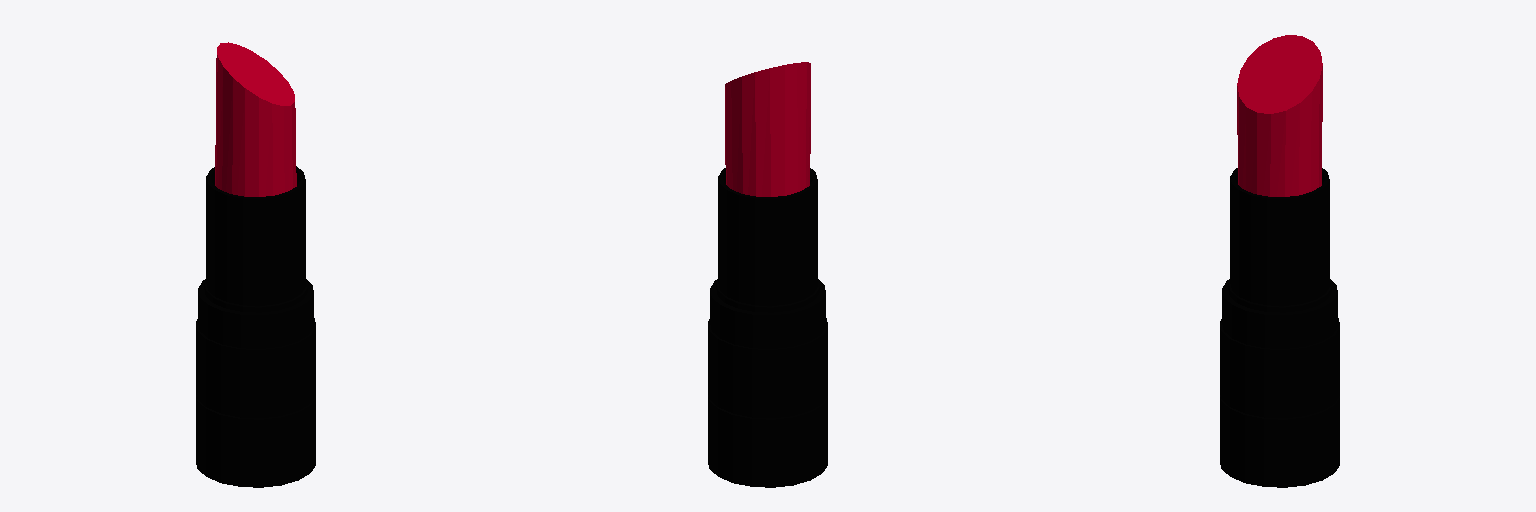
File: Lipstick.obj
The picture shows the model from 3 angles: view 1: azimuth 30°, elevation 25°; view 2: azimuth 150°, elevation 25°; view 3: azimuth 270°, elevation 25°; orthographic projection.
Parts seen in each view (by area): view 1: Cylinder001; view 2: Cylinder001; view 3: Cylinder001.
Boxes of the visible parts, <box> form: Cylinder001: <box>196,42,315,487</box>; Cylinder001: <box>708,62,827,487</box>; Cylinder001: <box>1220,35,1339,487</box>.
Size of the model in its own units: 108417 by 407966 by 108417.